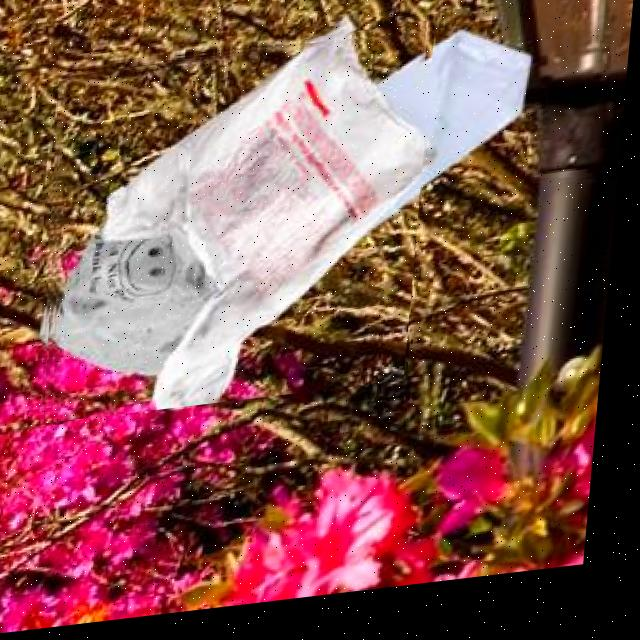litter: (39, 34, 437, 427)
